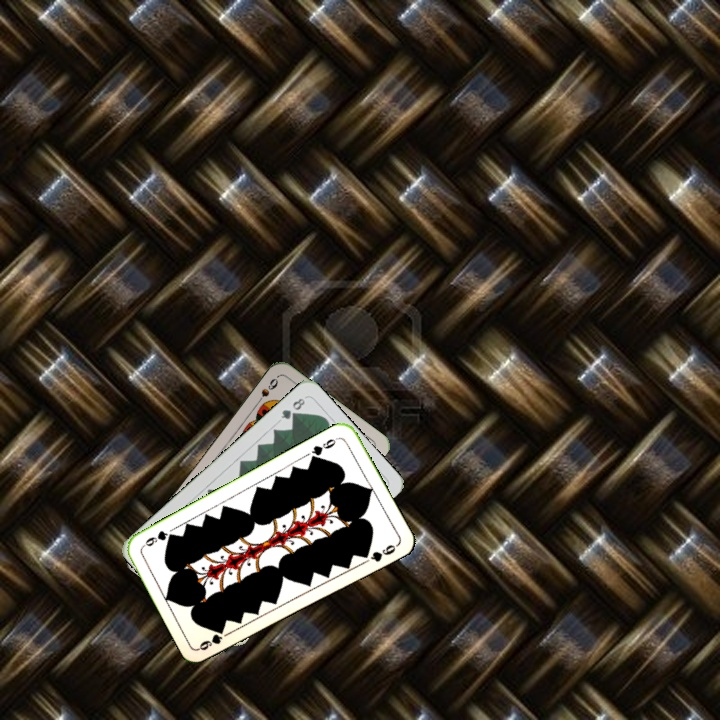G8: (277, 394, 308, 422)
G9: (307, 433, 342, 462), (195, 628, 226, 653)
S9: (251, 374, 281, 408)
